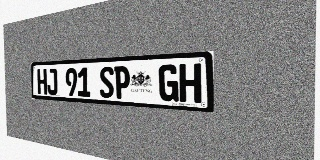1: (77, 67, 90, 97)
9: (65, 68, 77, 96)
G: (159, 64, 179, 102)
H: (179, 63, 201, 103), (37, 69, 47, 95)
J: (47, 68, 57, 95)
P: (114, 66, 130, 99)
S: (99, 66, 114, 98)
